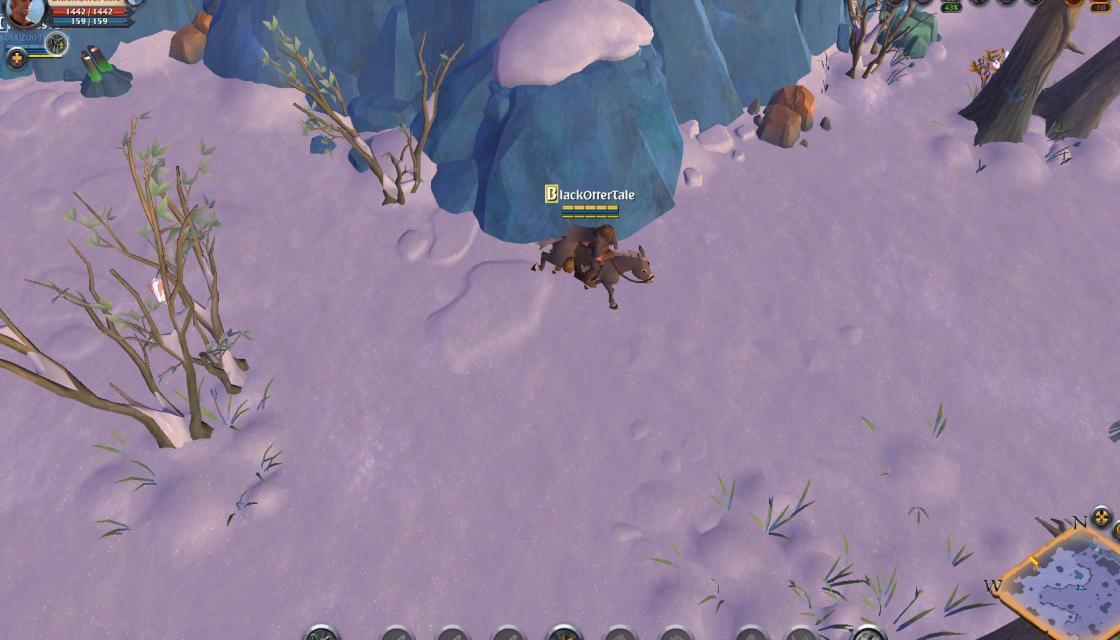limestone: (744, 78, 816, 150), (163, 9, 221, 63)
sandstone: (878, 1, 942, 61)
tinore: (70, 40, 134, 100)
